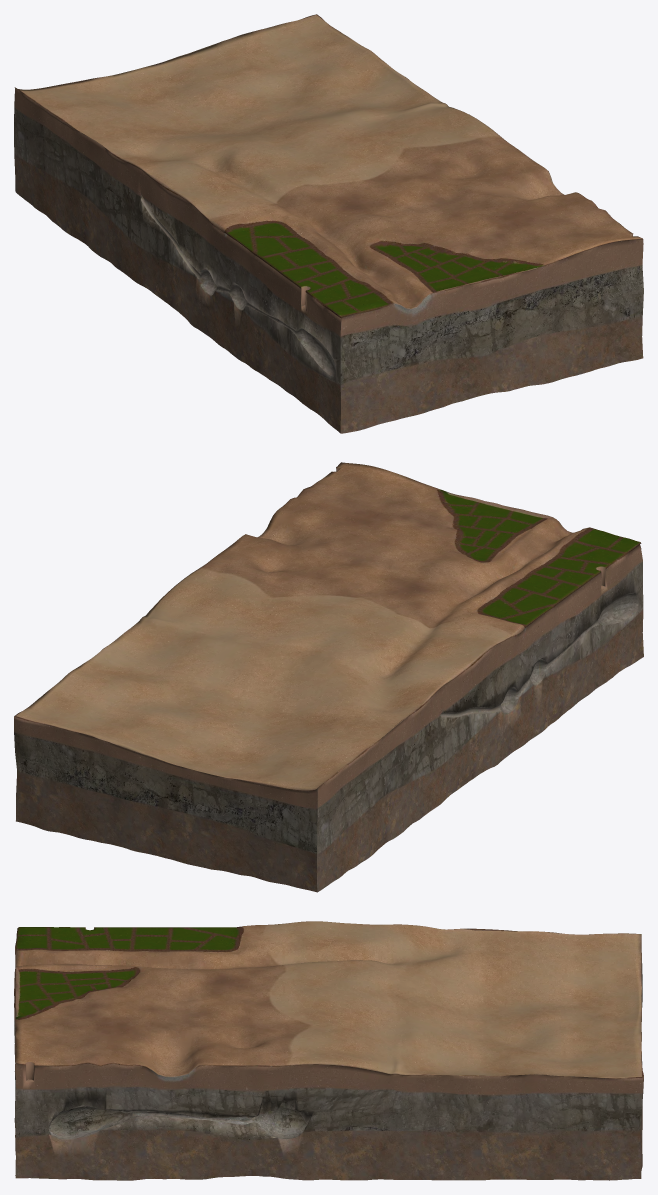
The model's file is base-with-holes-compressed.glb.
The picture shows the model from 3 angles, top to bottom: view 1: azimuth 30°, elevation 25°; view 2: azimuth 150°, elevation 25°; view 3: azimuth 270°, elevation 25°; orthographic projection. The views are drawn at different scales.
Parts seen in each view (by area): view 1: base.016; view 2: base.016; view 3: base.016.
Boxes of the visible parts, x1=… form: base.016: x1=14, y1=14, x2=643, y2=433; base.016: x1=14, y1=462, x2=643, y2=892; base.016: x1=14, y1=921, x2=643, y2=1180.
Size of the model in its own units: 9.11 by 3.6 by 16.97.
Materials: 1 (1 with a texture image).
